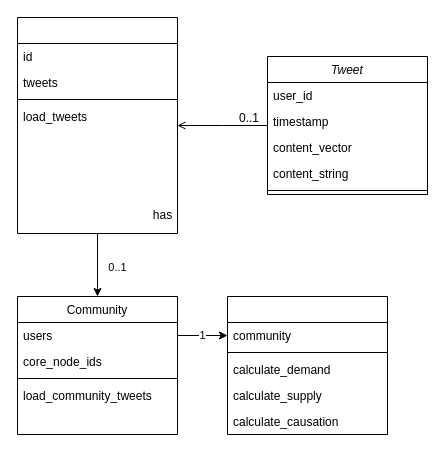
Image size: 445x455. Some labels were removed from this diagram. Each missing label, with the box of its shape:
Content Market: (226, 296, 388, 434)
User: (16, 16, 178, 234)
